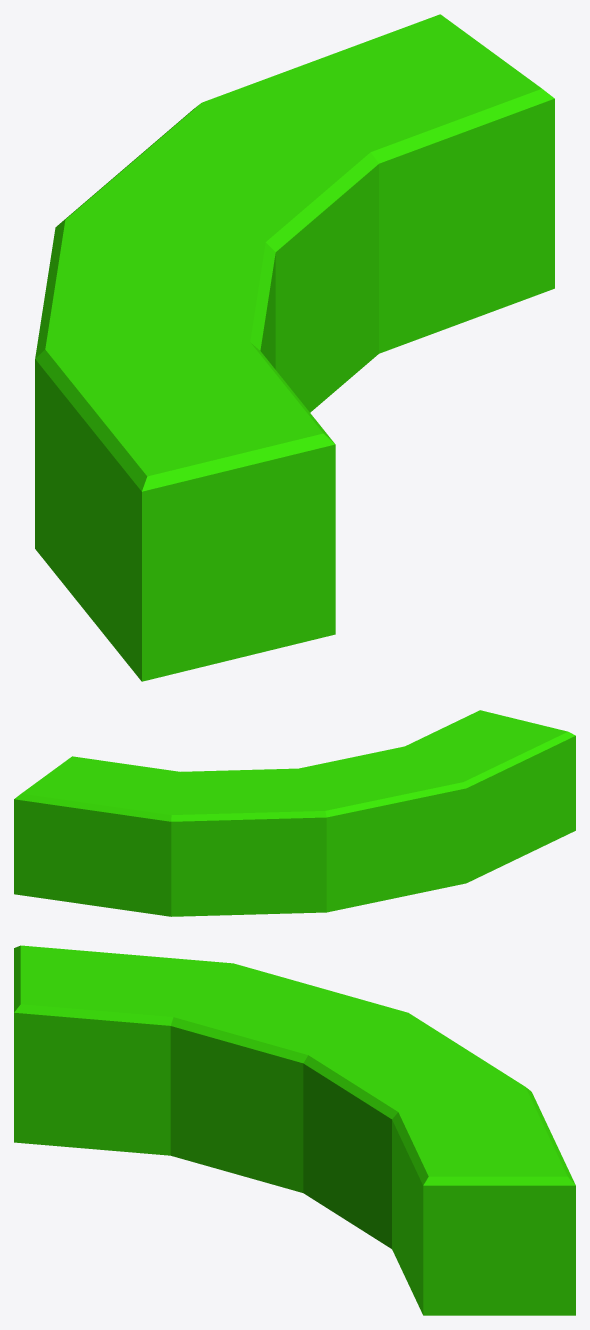
File: round_4x1_01.fbx
3 views of the same model, one above another, from view 1: azimuth 30°, elevation 25°; view 2: azimuth 150°, elevation 25°; view 3: azimuth 270°, elevation 25° (orthographic). The views are drawn at different scales.
Visible parts, largest first — view 1: round_4x1_01; view 2: round_4x1_01; view 3: round_4x1_01.
Part boxes in pixels (x1,y1,x2,y2): round_4x1_01: (35,14,554,681); round_4x1_01: (14,710,575,916); round_4x1_01: (14,945,575,1315).
Size of the model in its own units: 412 by 110 by 412.
